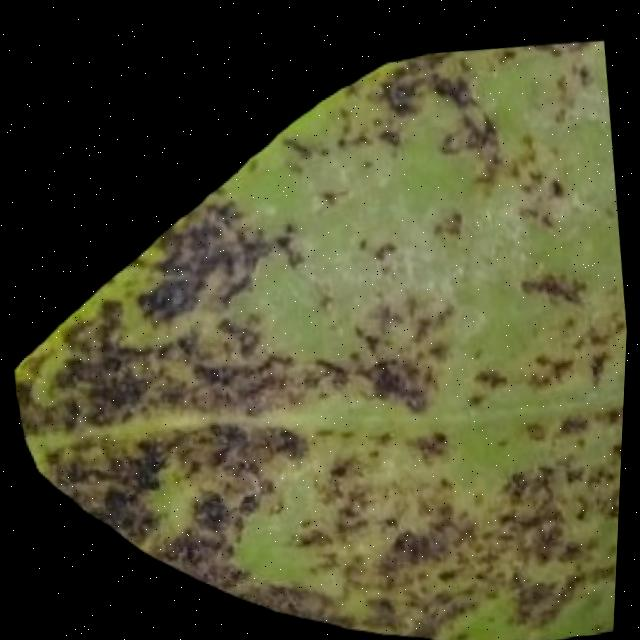mite: (474, 362, 511, 387), (586, 343, 613, 376), (371, 237, 399, 260)
spots: (0, 29, 630, 640)
